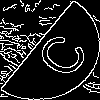C: (24, 25, 92, 81)
